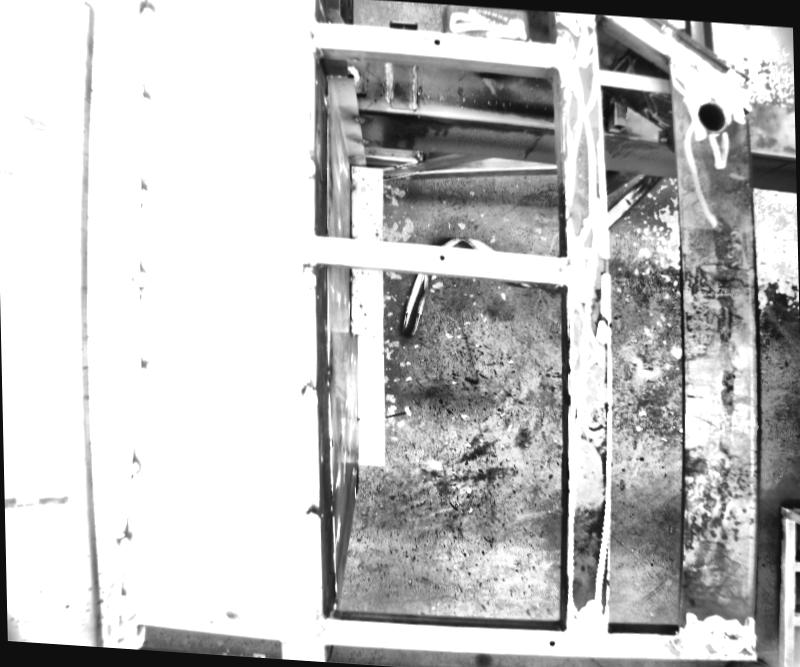hole: (694, 96, 728, 134), (437, 252, 445, 261), (432, 37, 440, 45), (548, 638, 554, 646)
